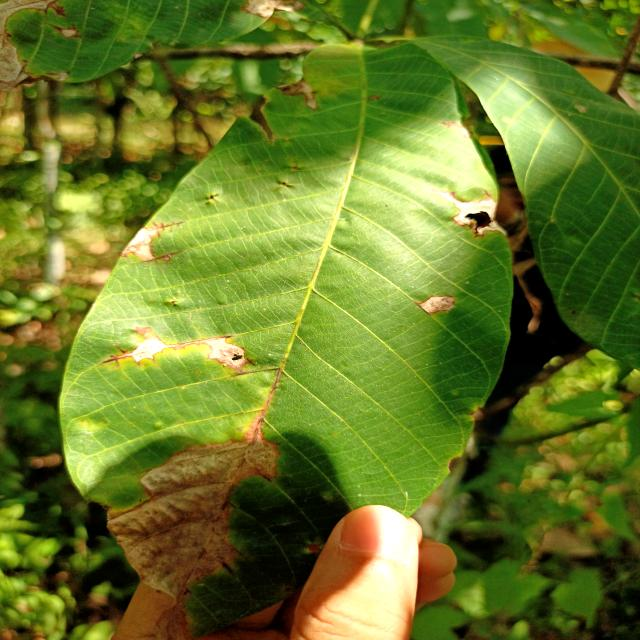Corynespora: (173, 334, 232, 349), (144, 220, 185, 237), (101, 346, 133, 367), (142, 250, 182, 262), (221, 562, 235, 575)
Leaf-Blight: (107, 414, 280, 640), (0, 0, 68, 92), (453, 199, 508, 235), (276, 78, 317, 110), (120, 228, 158, 260), (206, 338, 246, 367), (241, 0, 304, 18), (133, 340, 174, 362), (419, 296, 456, 314), (62, 29, 77, 37)
